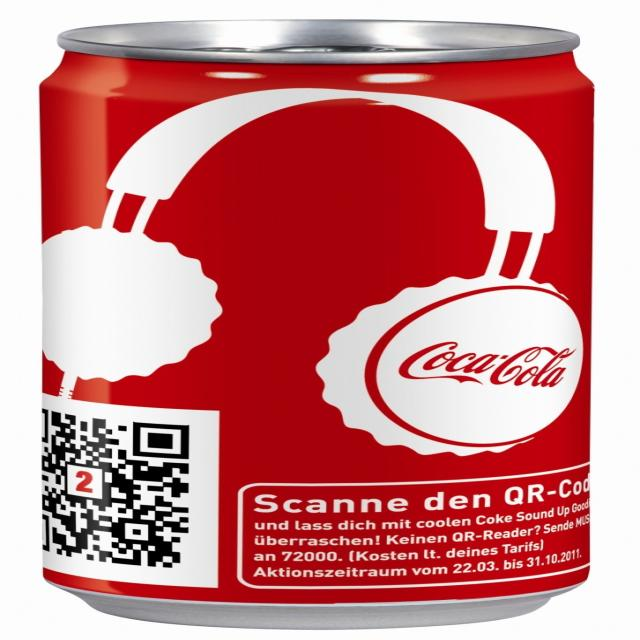cocacola: (37, 13, 640, 639)
